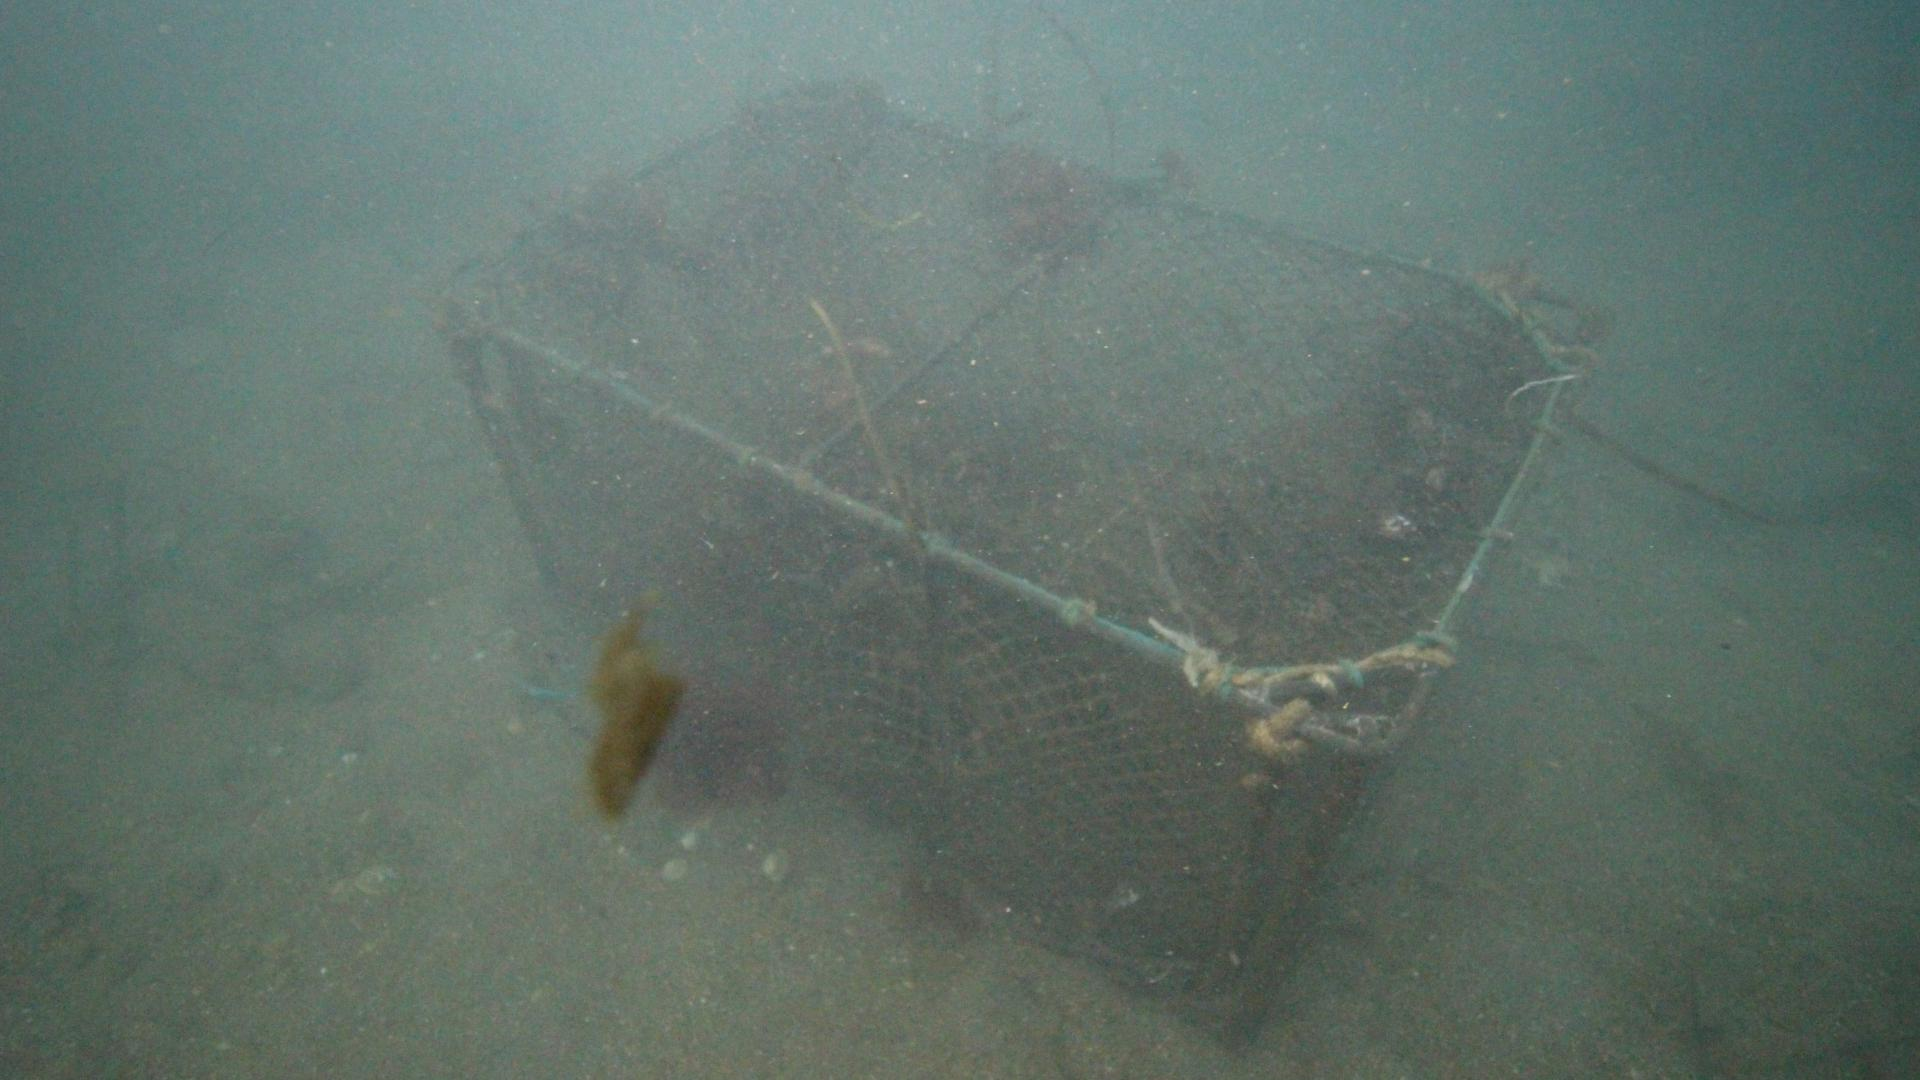rectangular fish trap: (433, 73, 1615, 1058)
